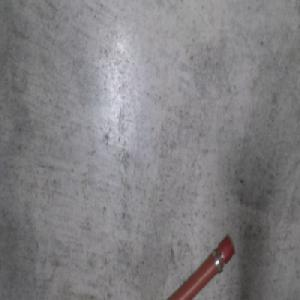Hose: (162, 231, 236, 300)
